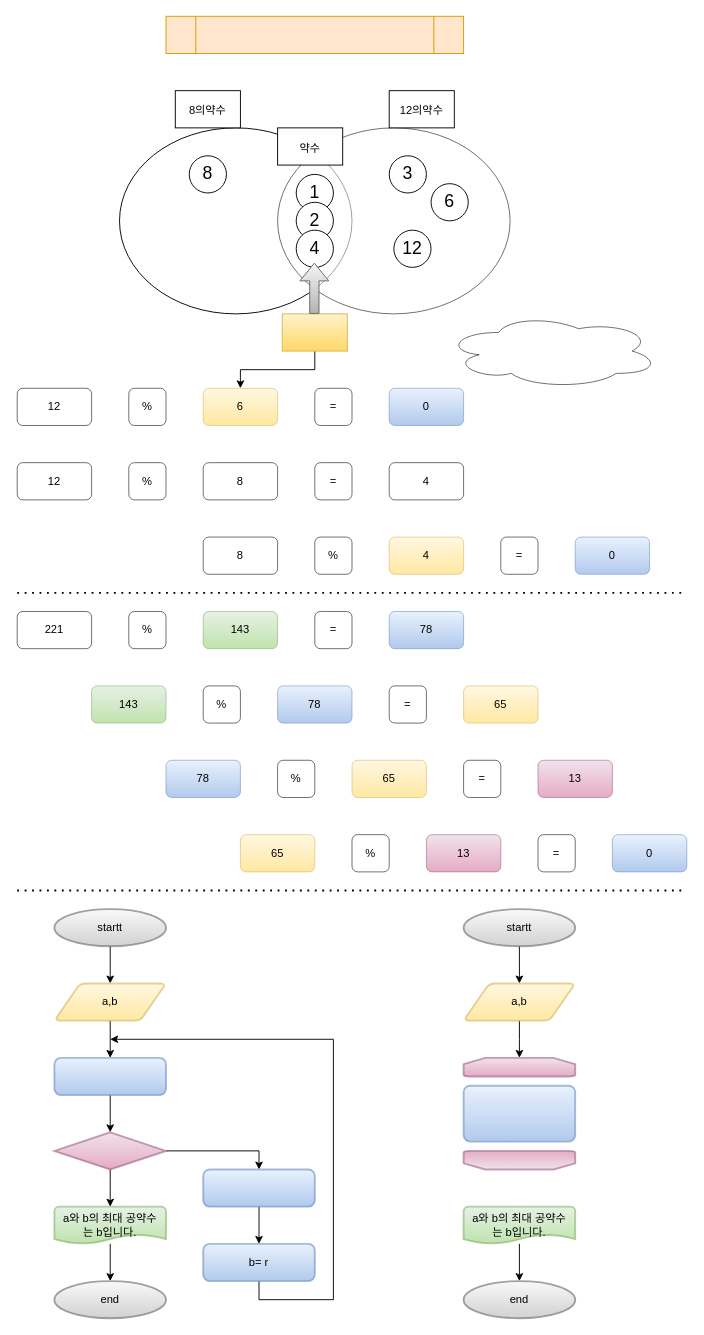
The diagram is 704 pixels wide and 1335 high, and some of its shapes have lost their labels. The shapes that lost their labels are listed below. From the top down, each one's centre as x and y in pixels, then its label:
At [314,34]: "Euclidean Algorithms".
At [314,332]: "최대공약수".
At [551,350]: "나머지가 없이 나누어 떨어지면 나누는데 사용된 수가 바로 최대 공약수이다.".
At [109,1076]: "a % b >r".
At [519,1066]: "r != 0".
At [519,1113]: "a % b >r a = b b = r".
At [109,1150]: "r =0".
At [258,1187]: "a = b".
